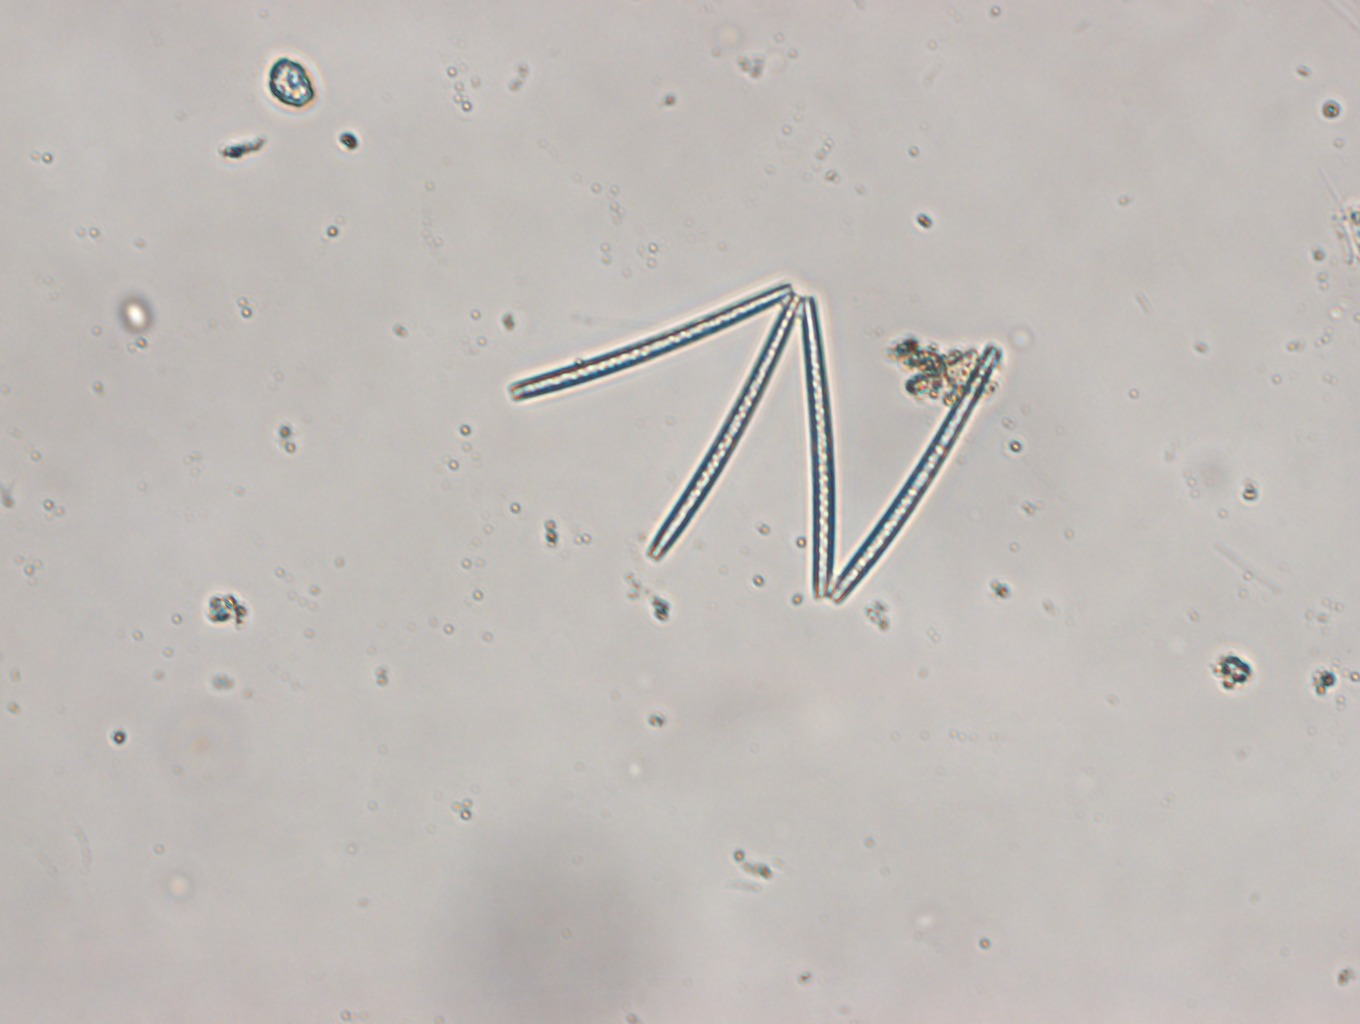thalassionema nitzschioides: (507, 280, 1002, 607)
